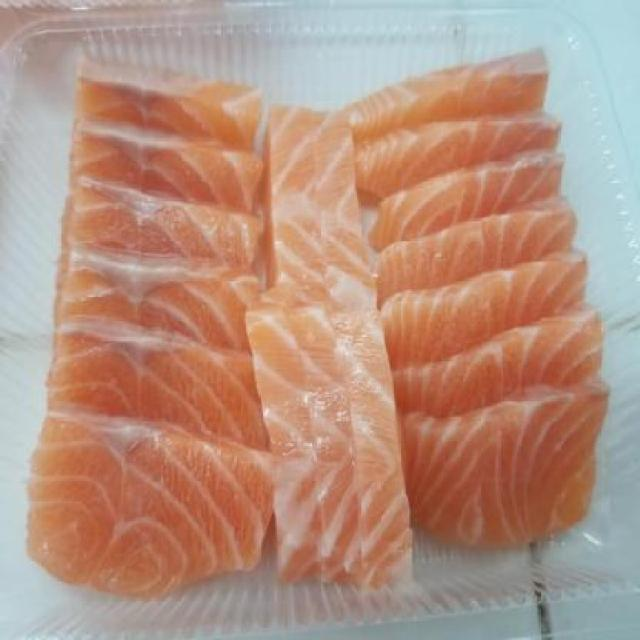salmon: (30, 39, 608, 592)
